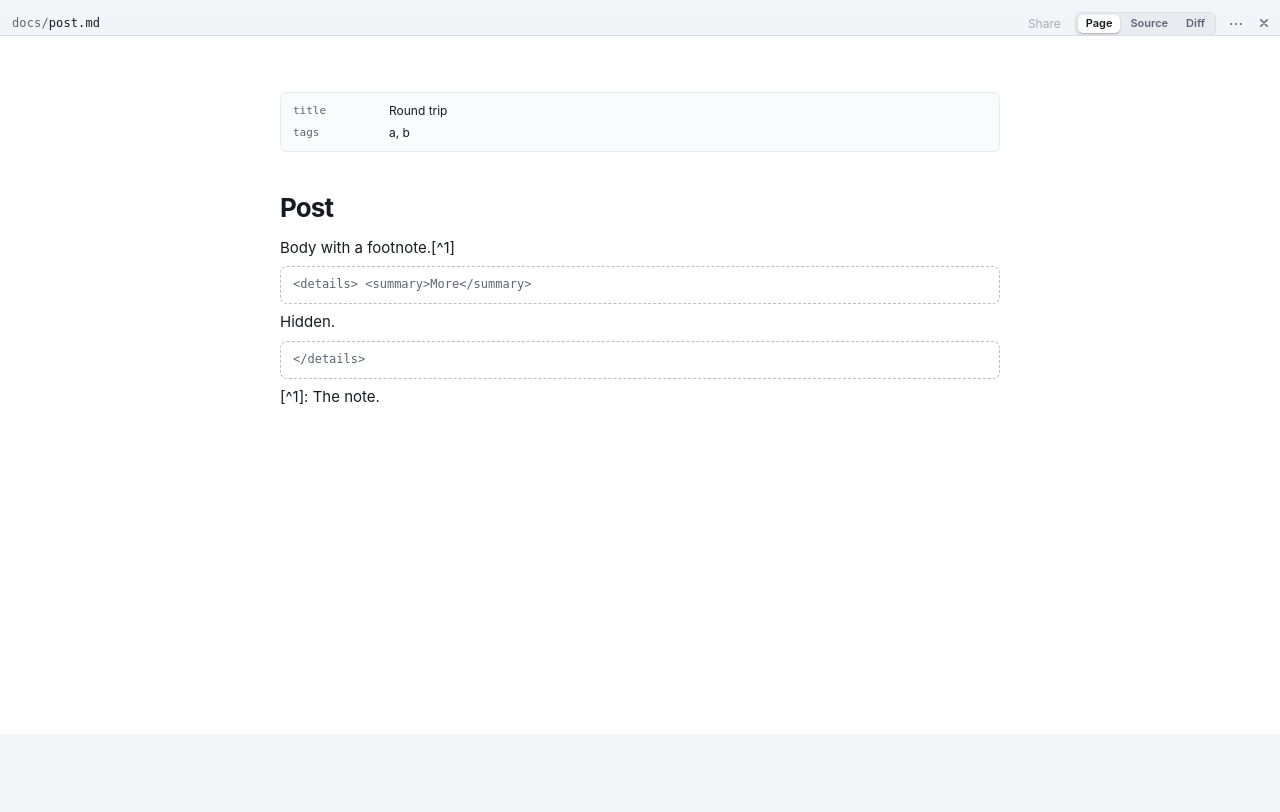
Test: front matter and the source › draws the front matter under Source as a muted block, not a heading
Step 1. Click the button "Source" → coordinates (1149, 24), box [1122, 14, 1176, 32]
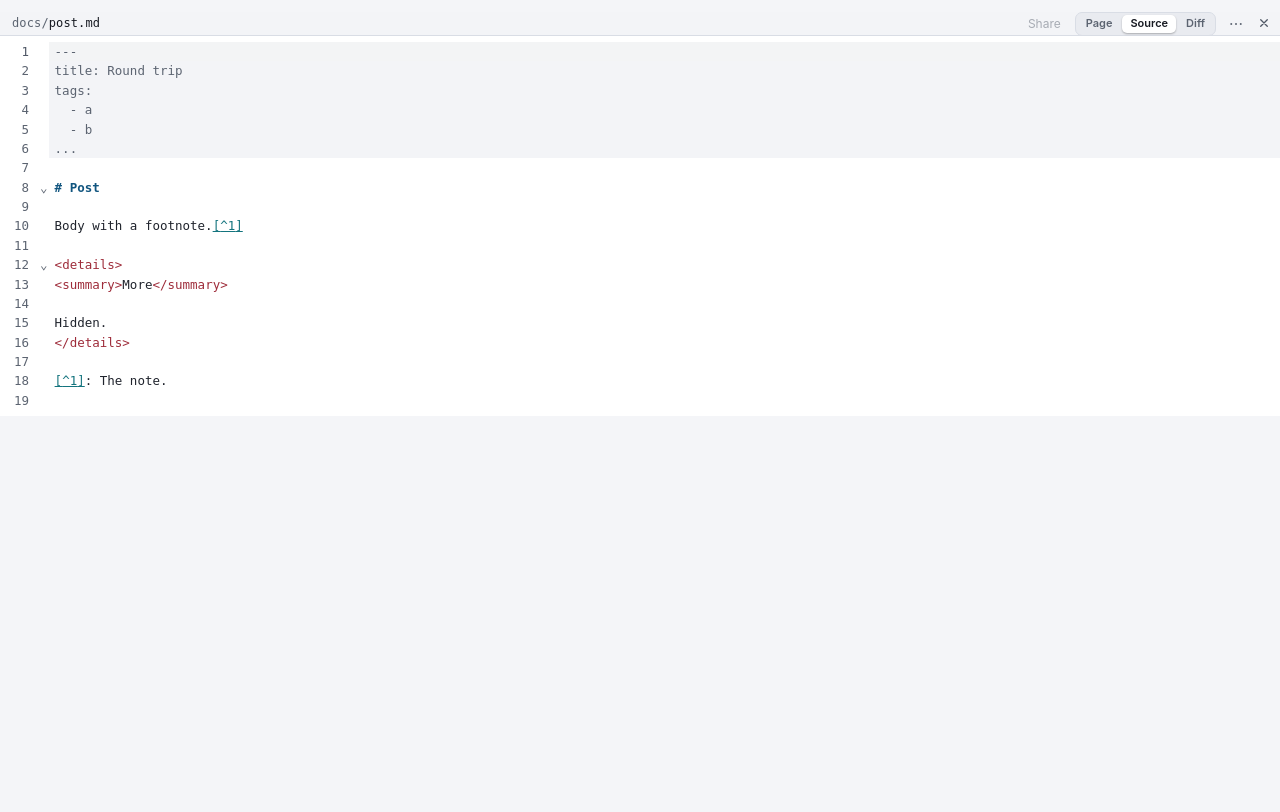
Result: the number of text boxes with class "cm-frontMatter" is 6 at [49, 42, 1279, 61]; [49, 61, 1279, 81]; [49, 81, 1279, 100]; [49, 100, 1279, 120]; [49, 120, 1279, 139]; [49, 139, 1279, 158]
